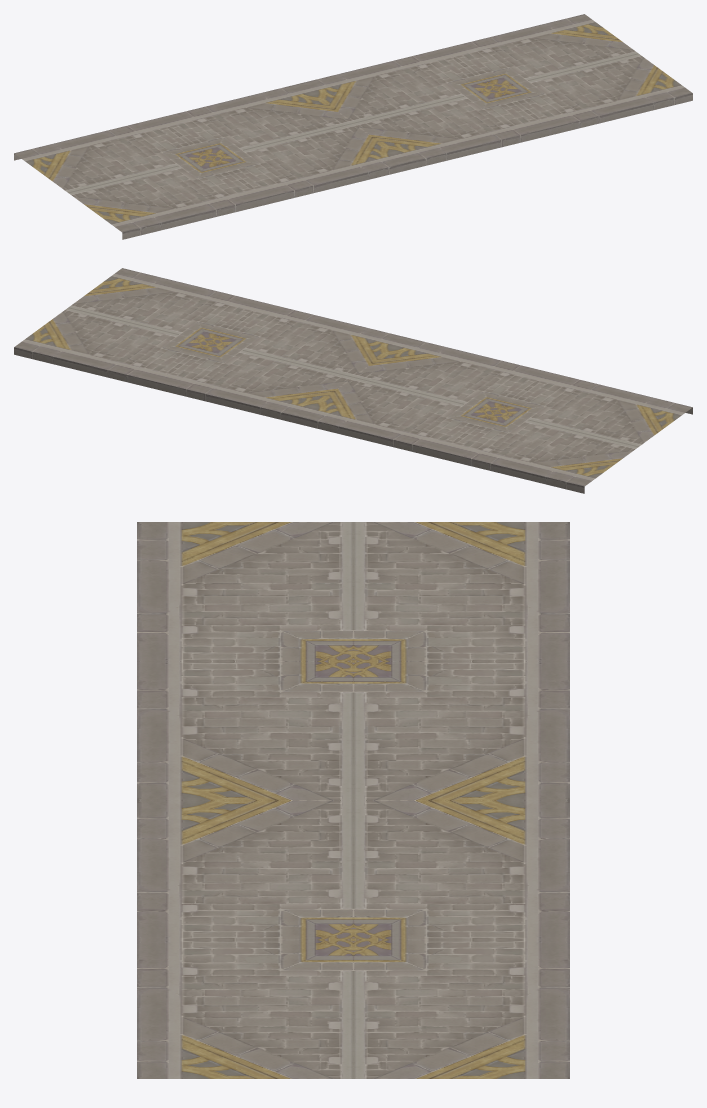
File: mod_zlc_jianzhu039_xy.FBX
3 views of the same model, one above another, from view 1: azimuth 30°, elevation 25°; view 2: azimuth 150°, elevation 25°; view 3: azimuth 270°, elevation 25° (orthographic). The views are drawn at different scales.
Visible parts, largest first — view 1: mod_zlc_jianzhu039_xy; view 2: mod_zlc_jianzhu039_xy; view 3: mod_zlc_jianzhu039_xy.
Boxes of the visible parts, x1,y1,x2,y2 form: mod_zlc_jianzhu039_xy: (14,14,692,239); mod_zlc_jianzhu039_xy: (14,268,692,493); mod_zlc_jianzhu039_xy: (137,522,569,1078).
Size of the model in its own units: 6281 by 77.72 by 2064.
1 material, 1 textured.
